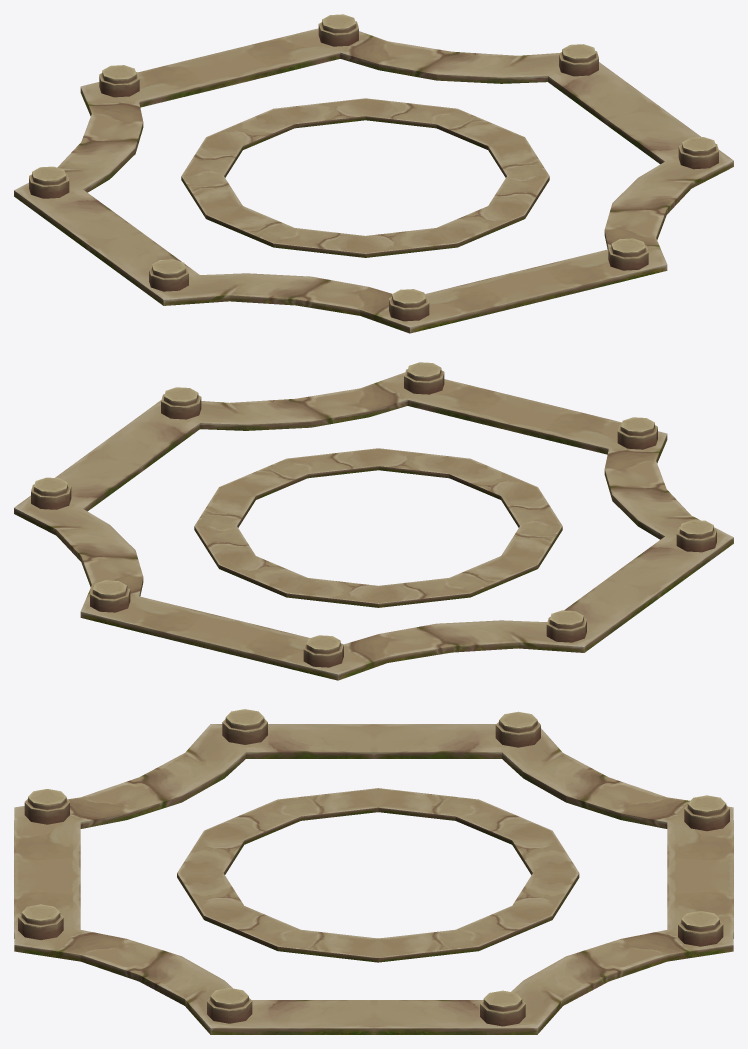
File: Stage_01_01_ShiTai.FBX
The picture shows the model from 3 angles, top to bottom: view 1: azimuth 30°, elevation 25°; view 2: azimuth 150°, elevation 25°; view 3: azimuth 270°, elevation 25°; orthographic projection. The views are drawn at different scales.
Parts seen in each view (by area): view 1: Stage_01_01_ShiTai; view 2: Stage_01_01_ShiTai; view 3: Stage_01_01_ShiTai.
Part boxes in pixels (x1,y1,x2,y2): Stage_01_01_ShiTai: (14,14,733,333); Stage_01_01_ShiTai: (14,362,733,680); Stage_01_01_ShiTai: (14,709,733,1034).
Bounding box in the file's own units: 2046 × 77.9 × 2047.
